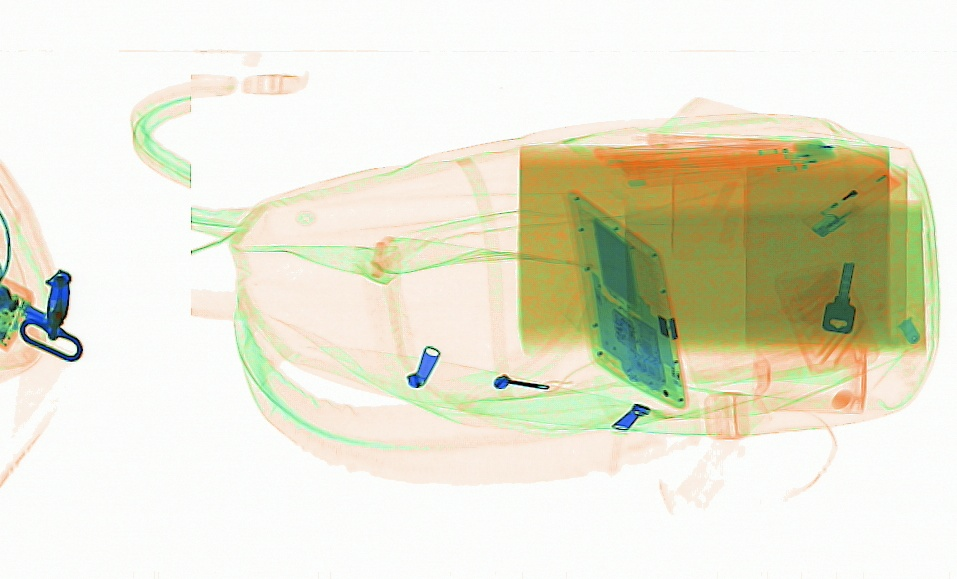lighter: (803, 165, 902, 236)
